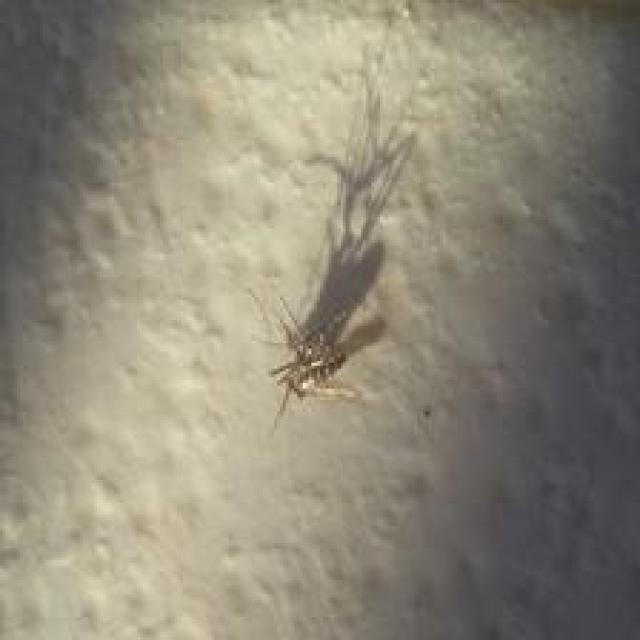Aedes albopictus: (251, 70, 420, 430)
